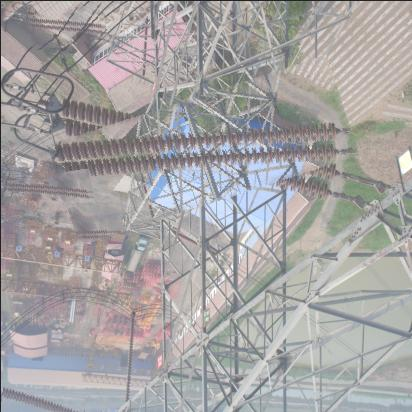insulator: (52, 76, 355, 225), (3, 172, 93, 211), (28, 6, 107, 48), (2, 388, 86, 412)
